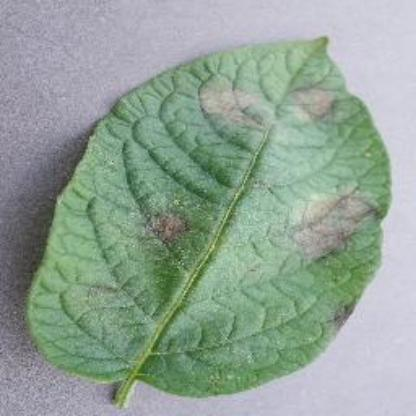Late-Blight: (38, 12, 400, 416)
